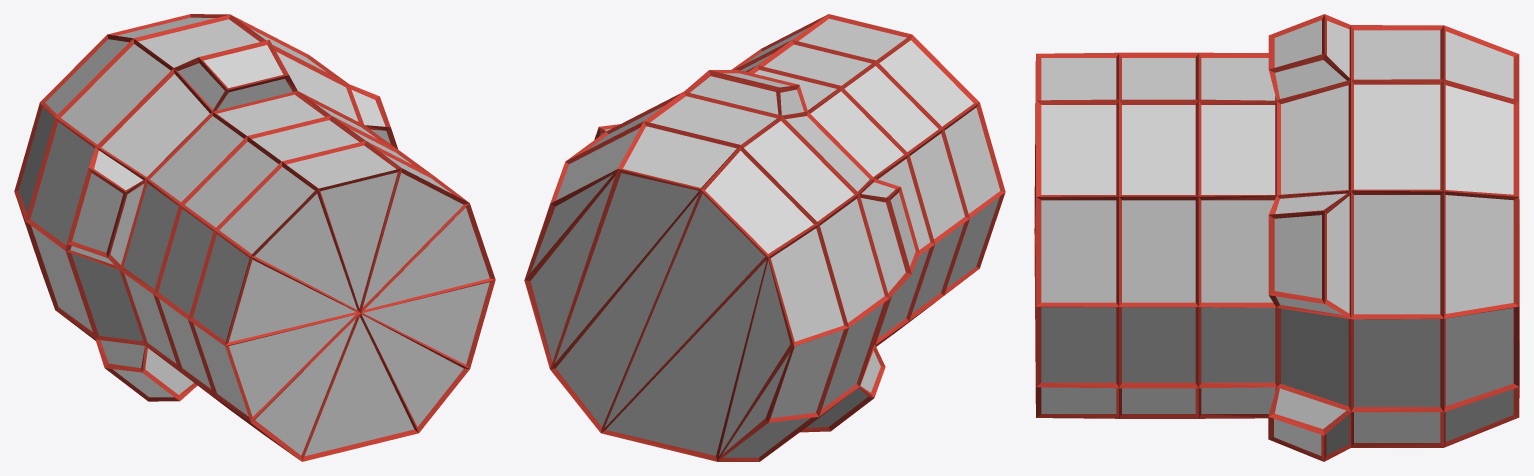
The picture shows the model from 3 angles, left to right: view 1: azimuth 30°, elevation 25°; view 2: azimuth 150°, elevation 25°; view 3: azimuth 270°, elevation 25°; orthographic projection. The views are drawn at different scales.
Parts seen in each view (by area): view 1: Cube, Cube_001; view 2: Cube, Cube_001; view 3: Cube, Cube_001.
Boxes of the visible parts, x1=… form: Cube: x1=18, y1=17, x2=489, y2=455; Cube_001: x1=14, y1=14, x2=495, y2=461; Cube: x1=530, y1=18, x2=1000, y2=457; Cube_001: x1=524, y1=14, x2=1005, y2=461; Cube: x1=1041, y1=20, x2=1513, y2=455; Cube_001: x1=1034, y1=14, x2=1519, y2=461.
Bounding box in the file's own units: 0.1116 × 0.1221 × 0.1055.
